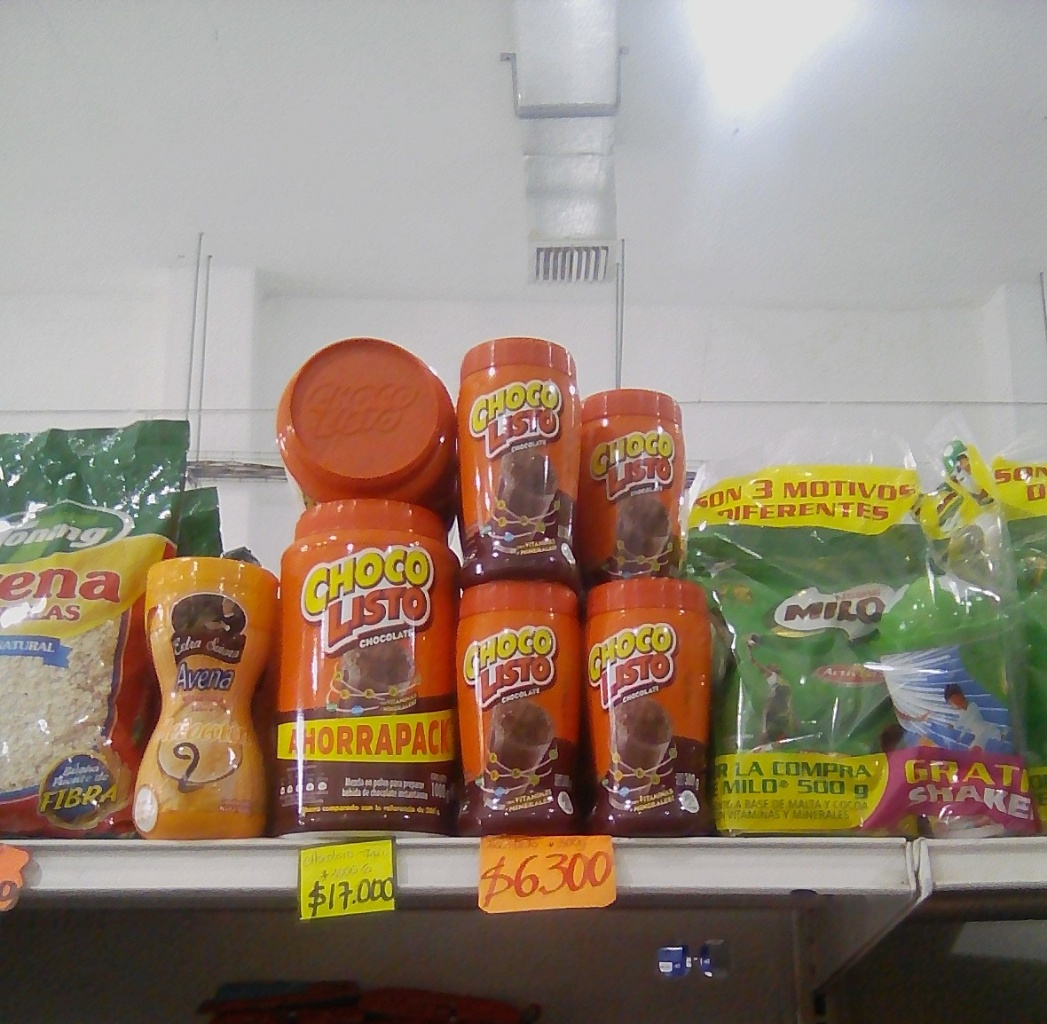COL0170103TRR00100: (275, 499, 461, 835)
